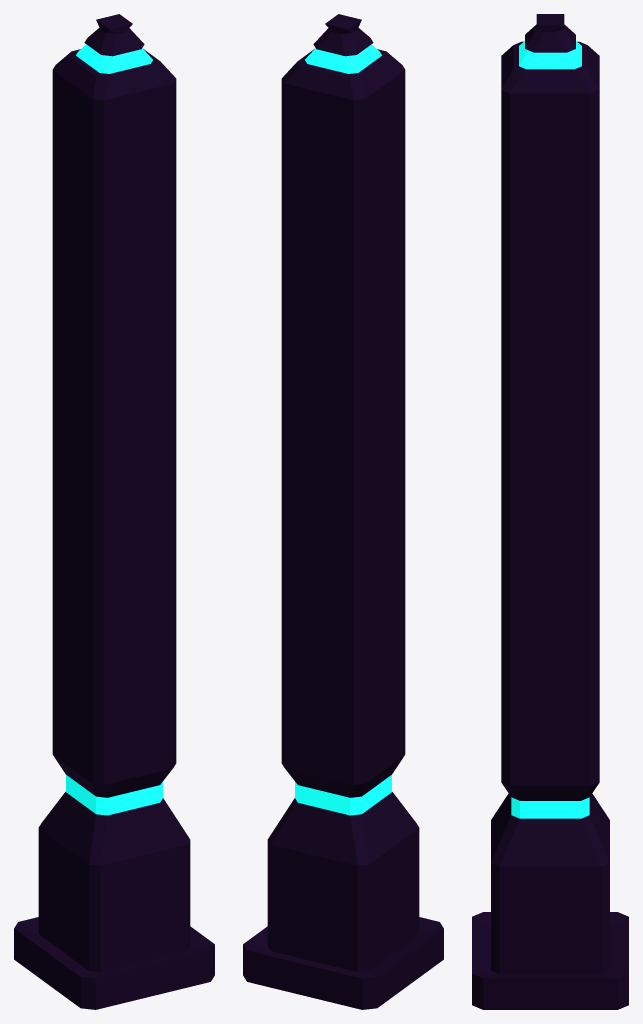
The model's file is bashnya2.fbx.
3 views of the same model, side by side, from view 1: azimuth 30°, elevation 25°; view 2: azimuth 150°, elevation 25°; view 3: azimuth 270°, elevation 25° (orthographic).
Visible parts, largest first — view 1: Cube; view 2: Cube; view 3: Cube.
Part boxes in pixels (x1,y1,x2,y2): Cube: [14, 14, 214, 1009]; Cube: [243, 14, 443, 1009]; Cube: [472, 14, 628, 1009].
Bounding box in the file's own units: 5287 × 35577 × 5287.
